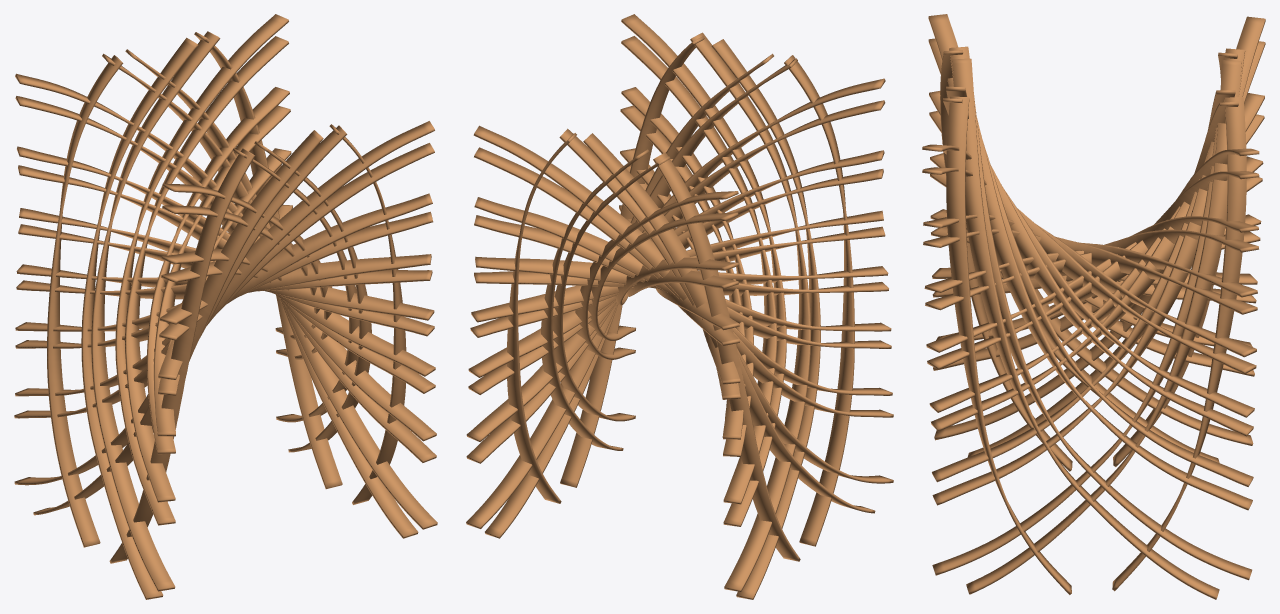
3 renders of one model, left to right at view 1: azimuth 30°, elevation 25°; view 2: azimuth 150°, elevation 25°; view 3: azimuth 270°, elevation 25°, orthographic. The views are drawn at different scales.
Visible parts, largest first — view 1: model; view 2: model; view 3: model.
Part boxes in pixels (box(x1,y1,x2,y2)): model: box(14, 14, 437, 599); model: box(466, 14, 893, 599); model: box(922, 14, 1265, 599).
Bounding box in the file's own units: 539 × 789 × 538.
